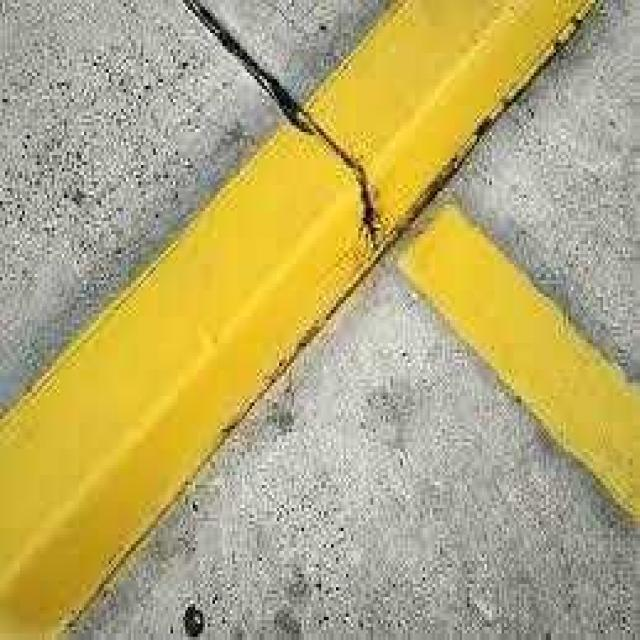curb: (4, 229, 329, 636), (323, 1, 600, 189), (223, 122, 460, 310)
